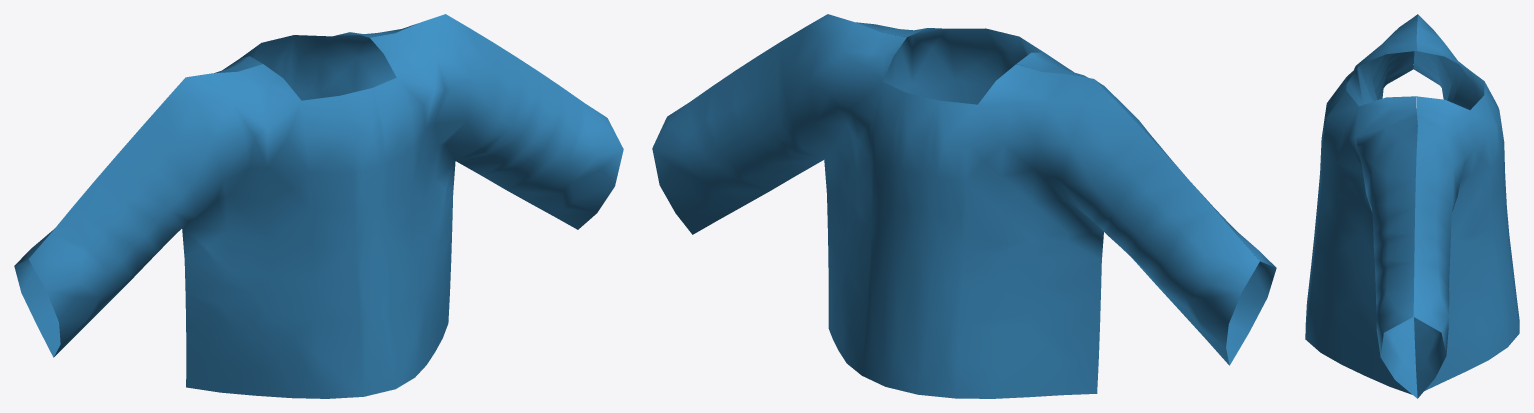
The model's file is Harbor reopened fitted.obj.
3 renders of one model, left to right at view 1: azimuth 30°, elevation 25°; view 2: azimuth 150°, elevation 25°; view 3: azimuth 270°, elevation 25°, orthographic. The views are drawn at different scales.
Parts seen in each view (by area): view 1: piece_2, piece_31; view 2: piece_31, piece_2; view 3: piece_2, piece_31.
Boxes of the visible parts, left/top/right/bottom form: piece_2: left=28, top=14, right=623, bottom=398; piece_31: left=14, top=23, right=417, bottom=357; piece_31: left=652, top=14, right=1259, bottom=398; piece_2: left=856, top=22, right=1276, bottom=365; piece_2: left=1305, top=14, right=1417, bottom=398; piece_31: left=1413, top=14, right=1519, bottom=398.
Bounding box in the file's own units: 1.19 × 0.6051 × 0.4347.
